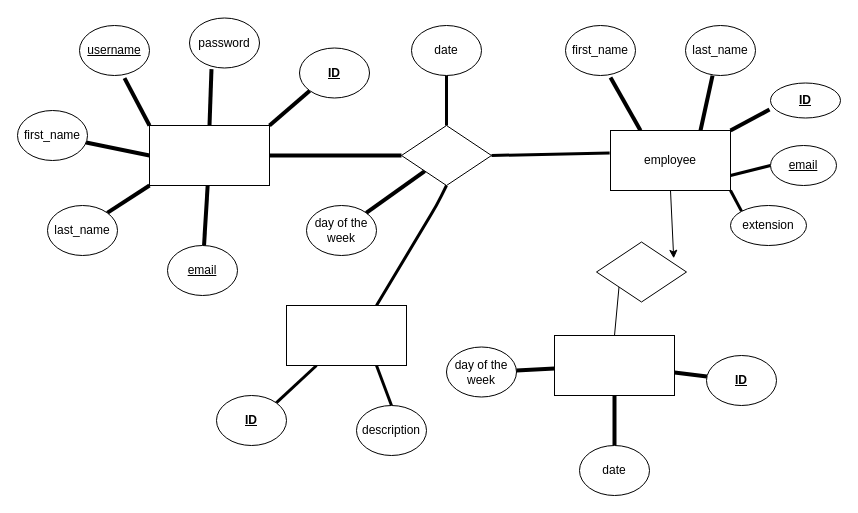
Some shapes in this 858 by 513 pixel diagram are drawn without their labels. Each missing label, with the box of its shape:
assignment: (286, 304, 406, 366)
day_off: (554, 334, 674, 396)
schedule: (400, 124, 492, 186)
scheduler: (148, 124, 270, 186)
takes: (596, 241, 686, 302)
